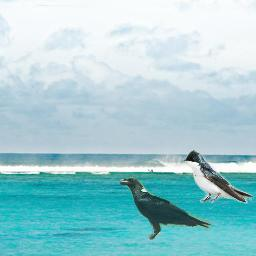Crow: (117, 177, 212, 241)
Swallow: (182, 149, 254, 204)
